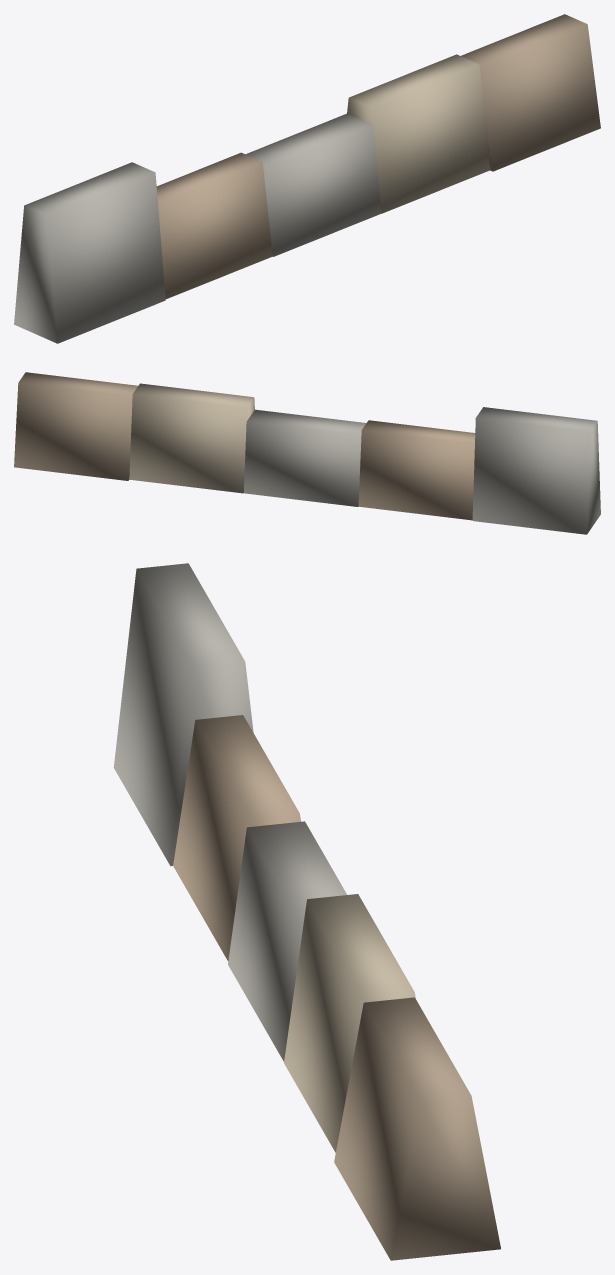
Rendered from farm_-3_14_collision.glb.
The picture shows the model from 3 angles, top to bottom: view 1: azimuth 30°, elevation 25°; view 2: azimuth 150°, elevation 25°; view 3: azimuth 270°, elevation 25°; orthographic projection. The views are drawn at different scales.
Parts seen in each view (by area): view 1: geometry_0; view 2: geometry_0; view 3: geometry_0.
Part boxes in pixels (<box>): geometry_0: <box>14,14,600,343</box>; geometry_0: <box>14,372,600,534</box>; geometry_0: <box>113,563,500,1260</box>.
Bounding box in the file's own units: 7.76 × 1.45 × 2.54.
